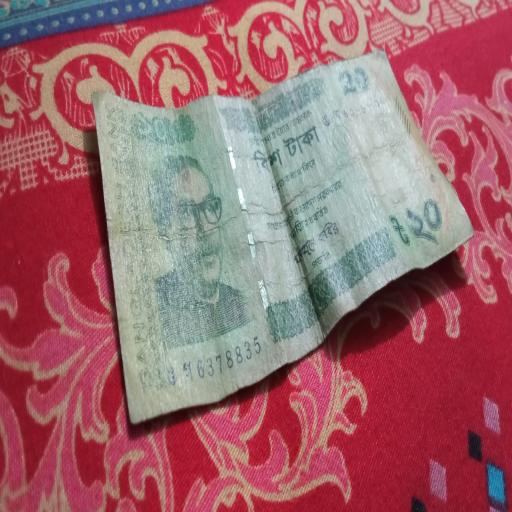20taka: (91, 46, 475, 426)
